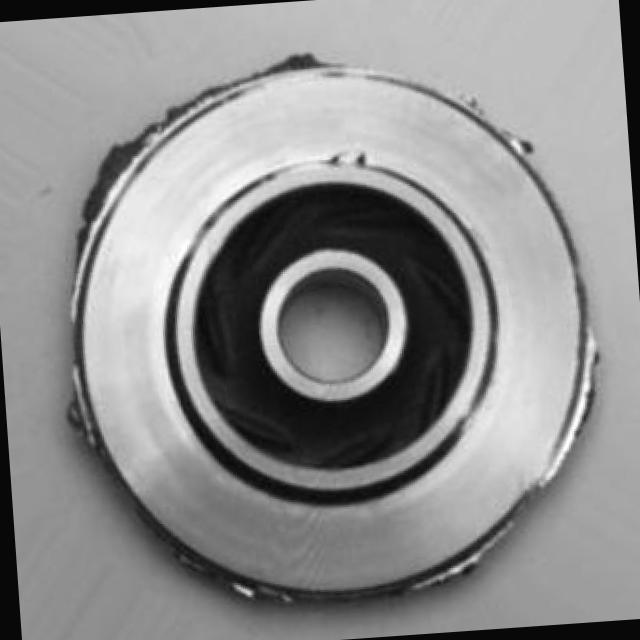Defect: (329, 141, 388, 181)
